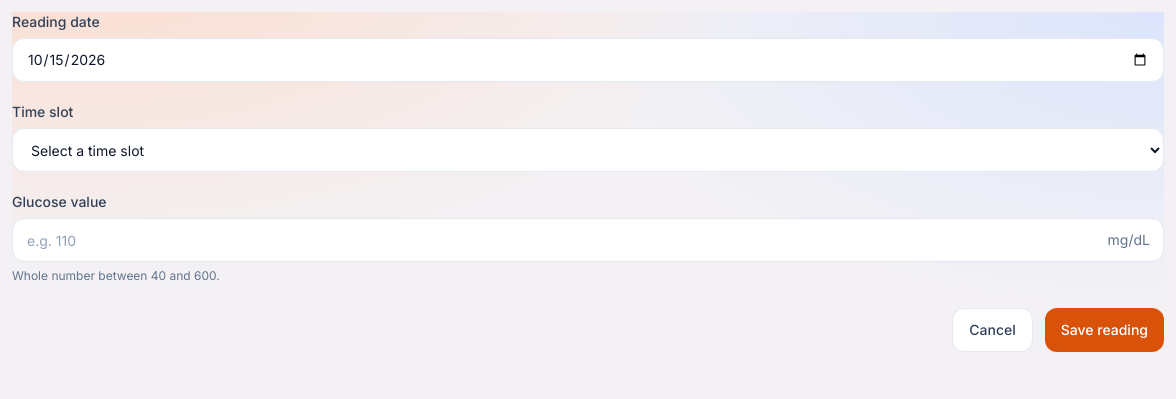
Test: ReadingForm › requires a glucose value and a time slot
Click the button "Save reading". click: (1104, 330)
box: [1045,308,1164,352]
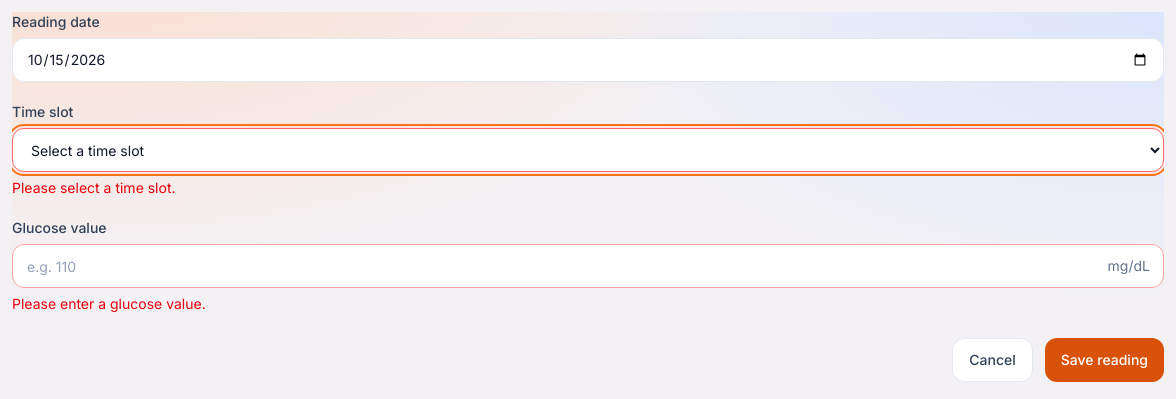
Expected: the text "Please enter a glucose value." is shown, [12,295,206,312]
Expected: the text "Please select a time slot." is shown, [12,179,176,196]
